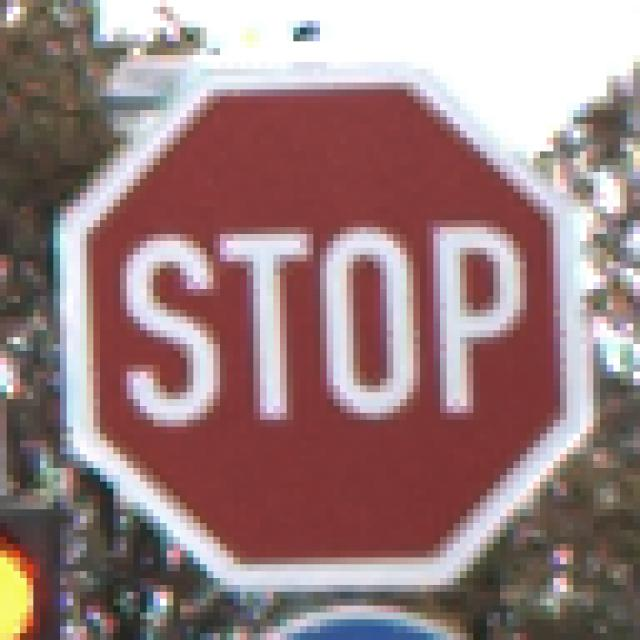STOP: (54, 63, 588, 586)
